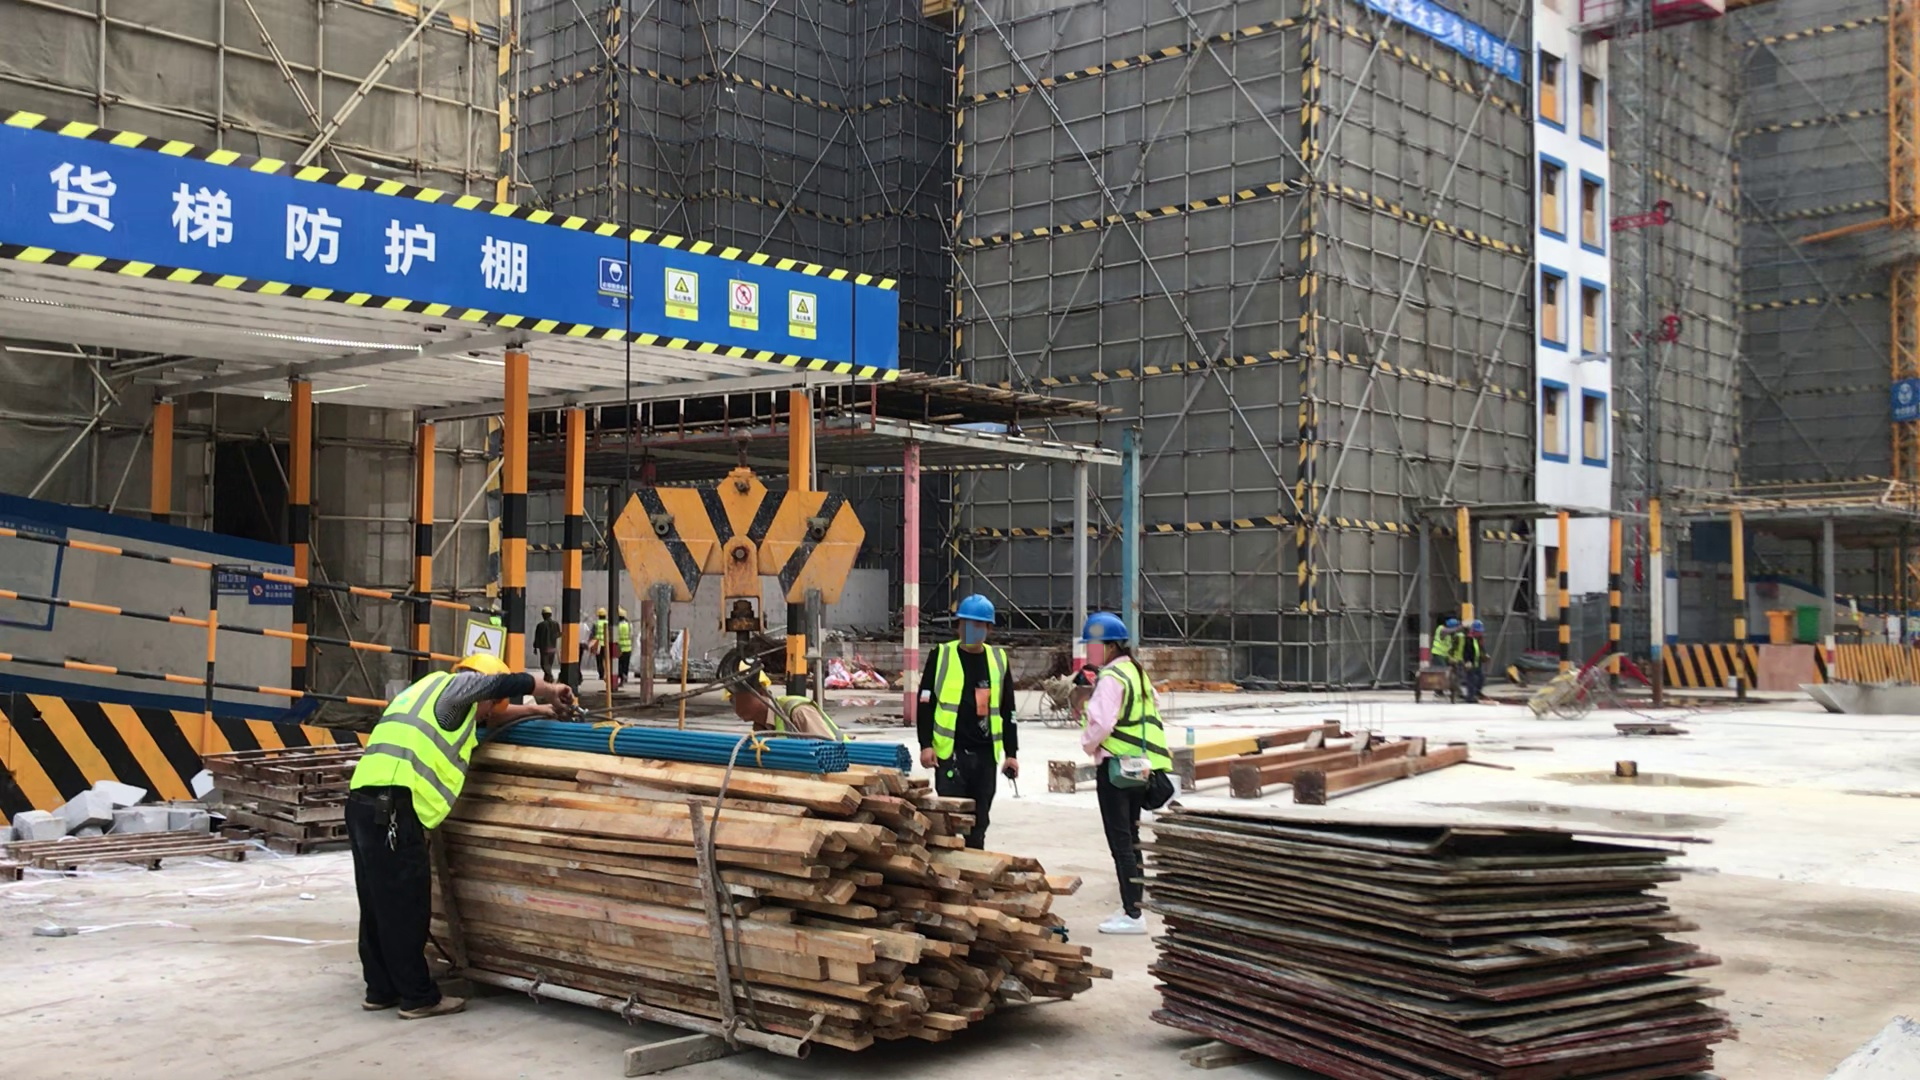board: (1136, 801, 1717, 1080)
handcart: (1515, 645, 1625, 717)
helmet: (452, 648, 512, 682), (1082, 616, 1134, 644), (953, 595, 996, 625), (1471, 620, 1485, 633), (1444, 619, 1460, 629), (596, 608, 606, 618), (539, 606, 552, 615), (617, 607, 627, 617)
hook: (610, 465, 863, 606)
hopper: (1803, 676, 1920, 718)
person: (343, 631, 508, 1023), (1073, 613, 1182, 932), (928, 600, 1018, 849), (722, 649, 841, 749), (533, 606, 562, 684), (1464, 622, 1489, 700), (1431, 617, 1461, 668), (617, 607, 636, 683), (589, 607, 607, 674)
slogan: (1384, 1, 1518, 83)
vest: (350, 669, 470, 825), (932, 639, 1013, 770), (1093, 658, 1168, 780), (770, 692, 840, 743), (1432, 626, 1451, 656), (616, 620, 631, 652), (595, 620, 606, 644)
wood: (486, 669, 1116, 1080)
